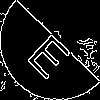E: (25, 25, 79, 82)
